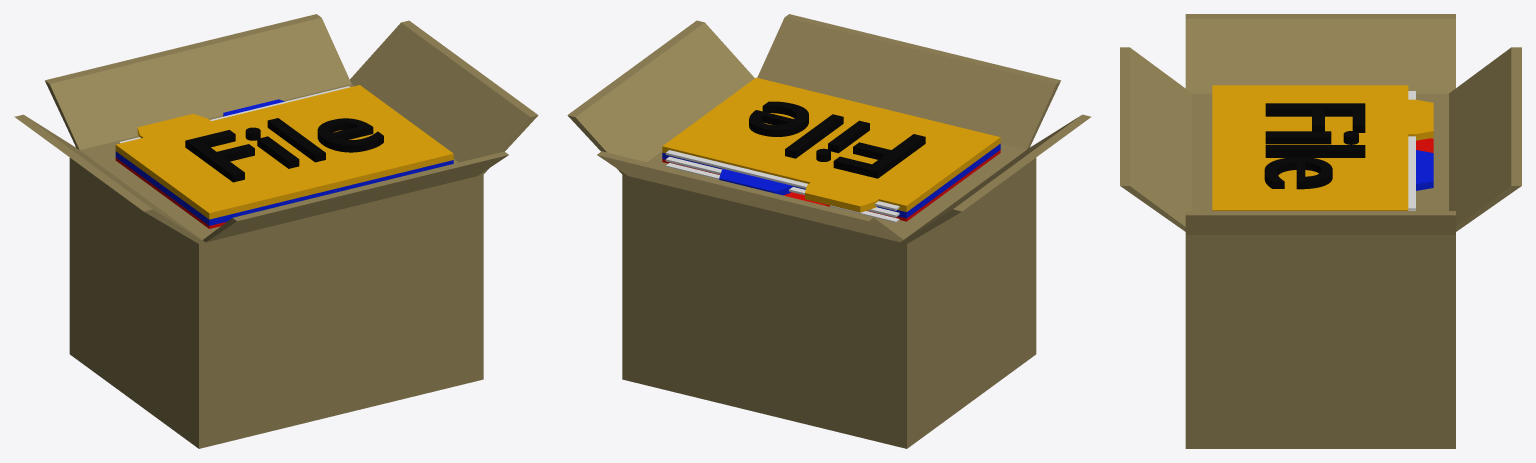
Rendered from fileandbox.fbx.
3 renders of one model, left to right at view 1: azimuth 30°, elevation 25°; view 2: azimuth 150°, elevation 25°; view 3: azimuth 270°, elevation 25°, orthographic. The views are drawn at different scales.
Visible parts, largest first — view 1: Cube; view 2: Cube; view 3: Cube.
Boxes of the visible parts, bbox=[...] form: Cube: bbox=[14, 14, 538, 448]; Cube: bbox=[567, 14, 1091, 448]; Cube: bbox=[1120, 14, 1521, 448].
Size of the model in its own units: 79.95 by 48.53 by 67.51.
